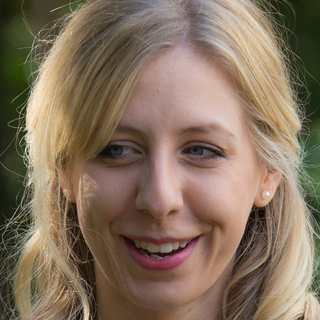eye: (176, 139, 227, 165), (93, 139, 143, 165)
